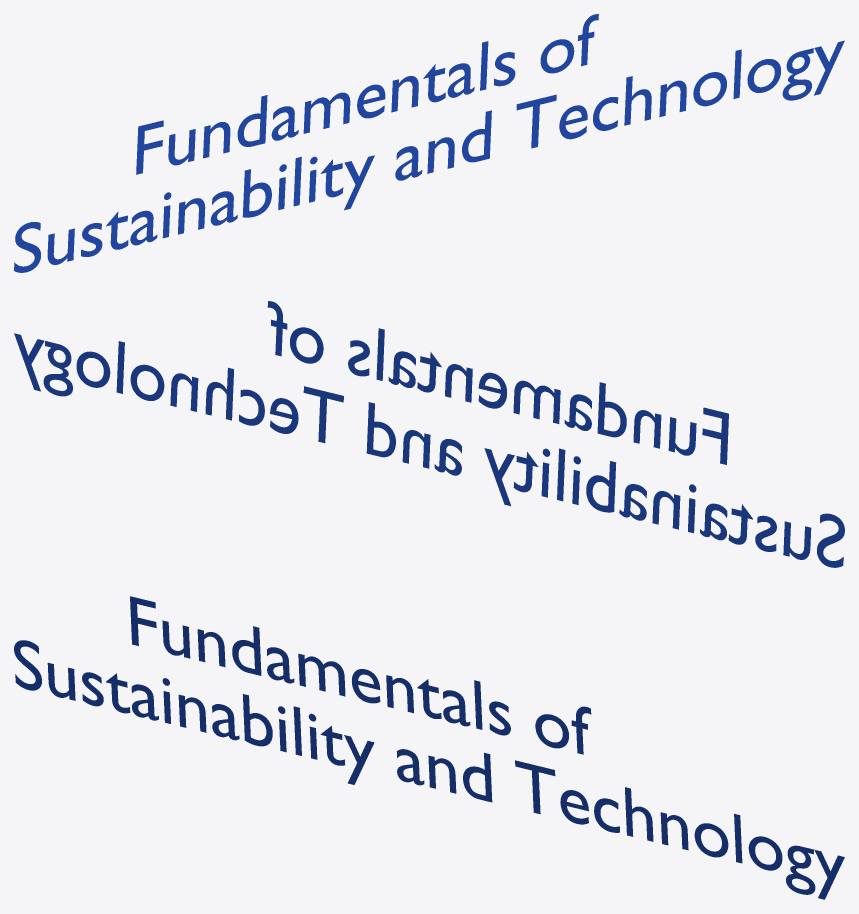
File: FundamentalsofSustainableTech.glb
The picture shows the model from 3 angles, top to bottom: view 1: azimuth 30°, elevation 25°; view 2: azimuth 150°, elevation 25°; view 3: azimuth 330°, elevation 25°; orthographic projection.
Parts seen in each view (by area): view 1: Text.001; view 2: Text.001; view 3: Text.001.
Part boxes in pixels (left/top/right/bottom): Text.001: left=14, top=14, right=844, bottom=272; Text.001: left=14, top=301, right=844, bottom=567; Text.001: left=14, top=596, right=844, bottom=899.
Size of the model in its own units: 11.84 by 1.92 by 0.1476.
